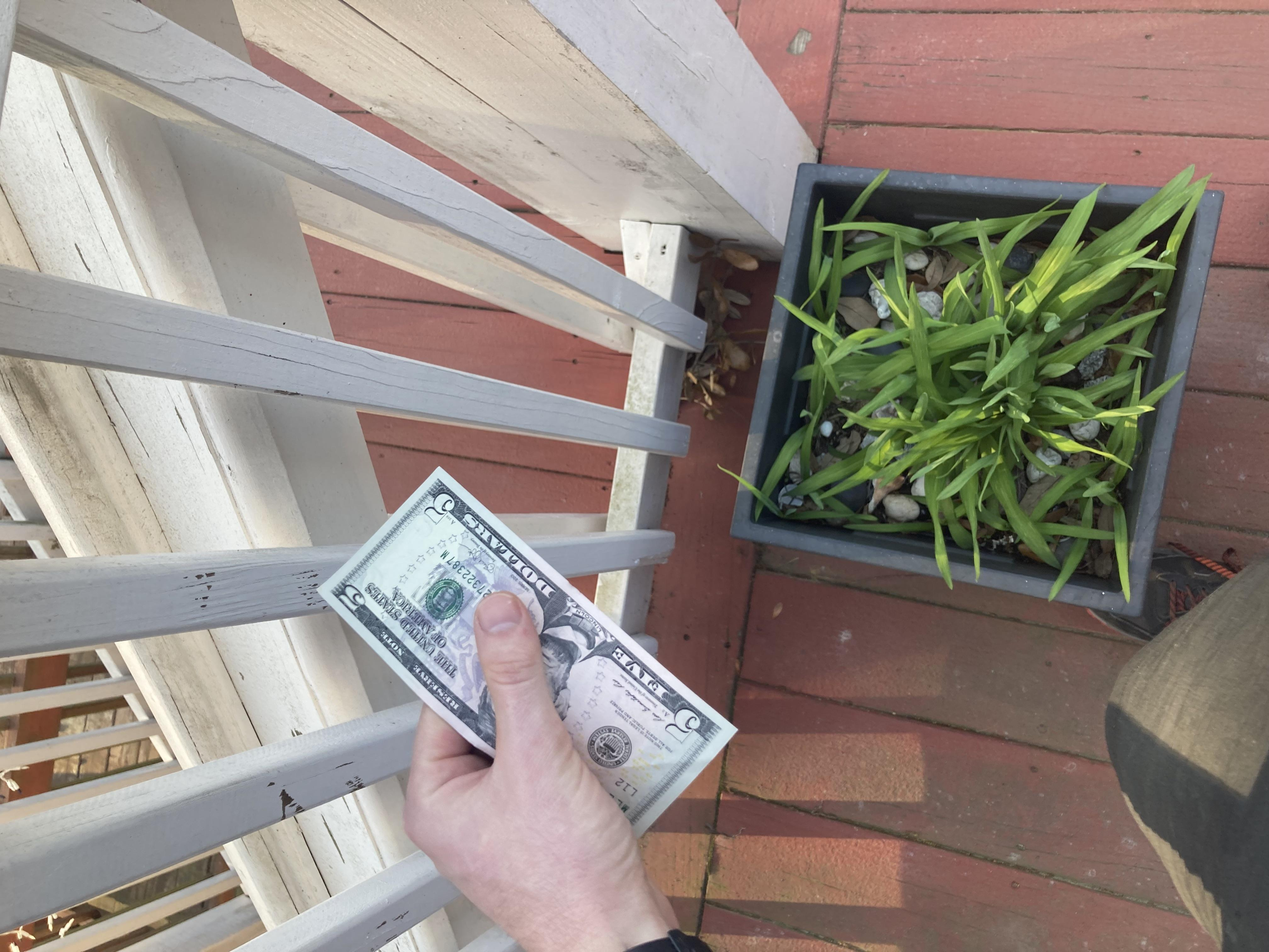five-front: (132, 239, 646, 554)
